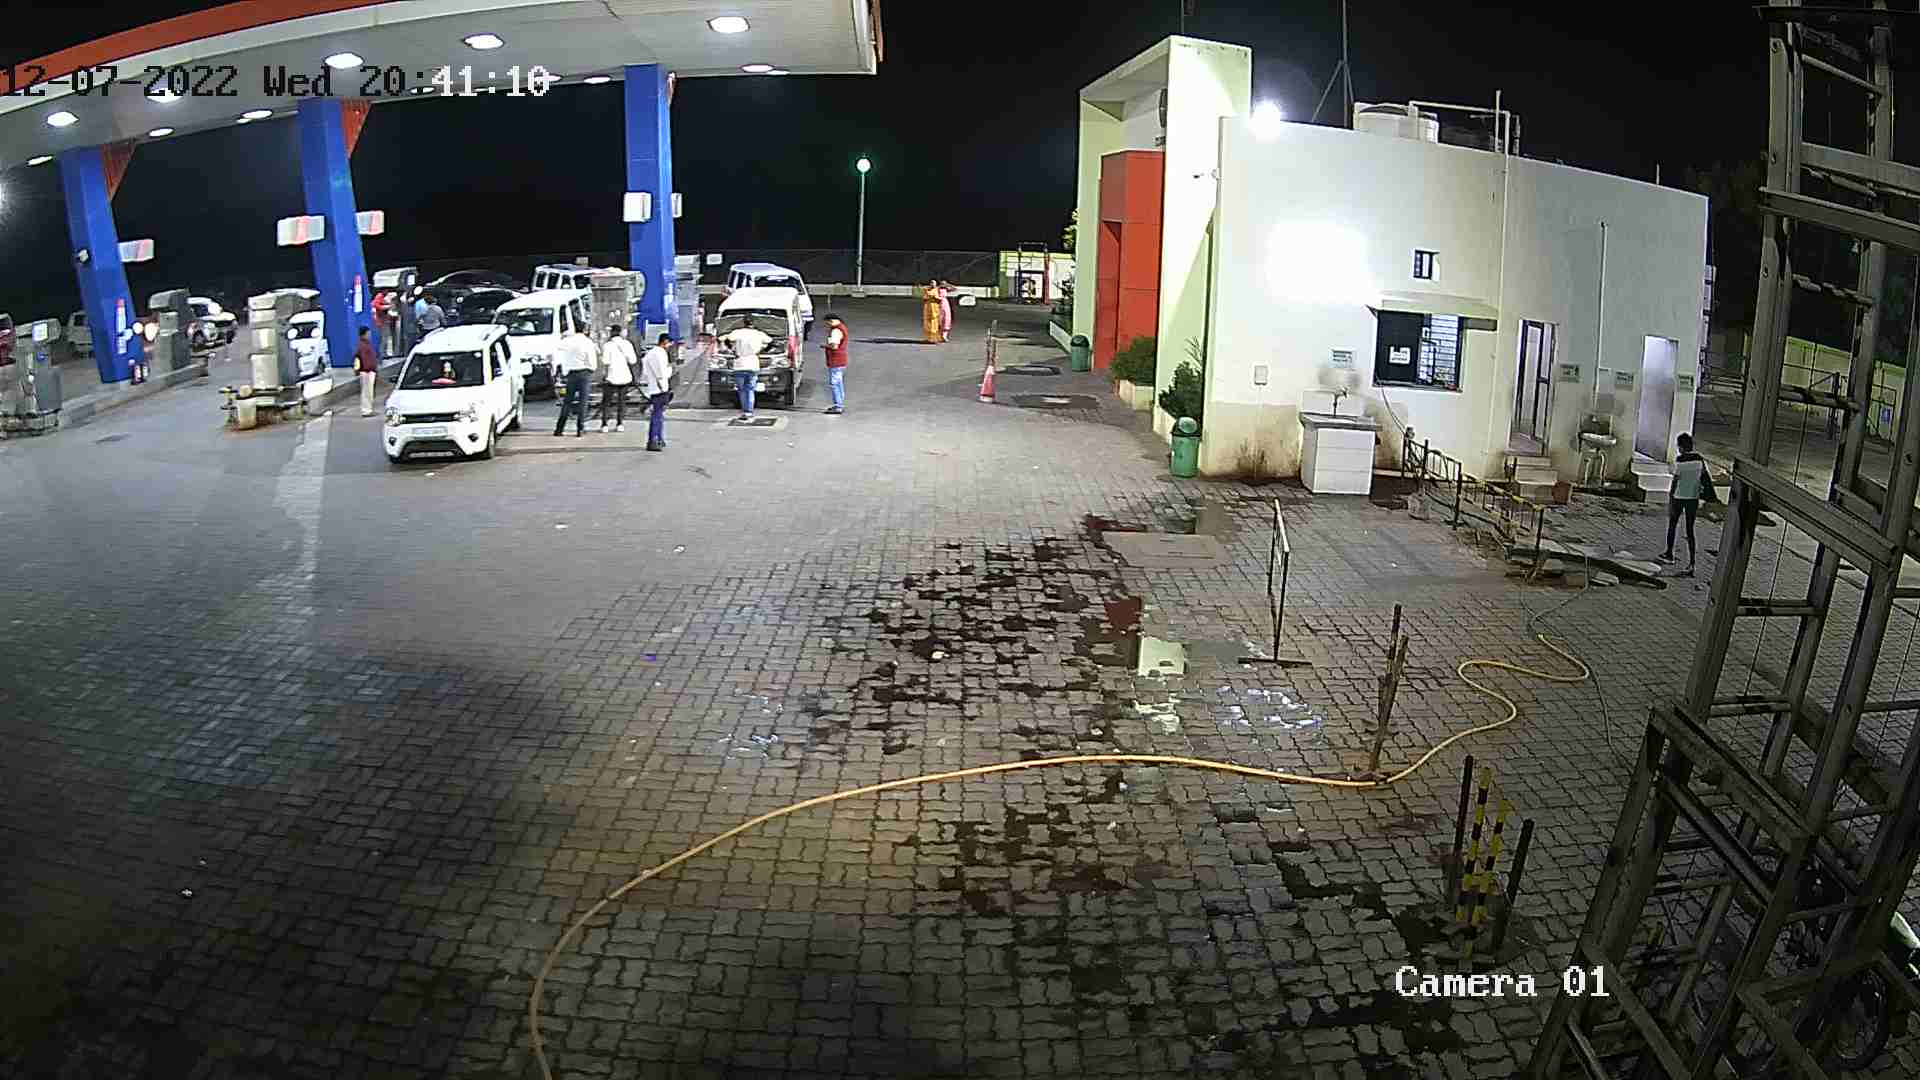Car: (356, 305, 535, 476), (692, 274, 812, 415), (475, 280, 607, 398), (709, 255, 816, 345), (425, 272, 530, 338), (411, 258, 537, 309), (518, 257, 622, 316), (274, 299, 334, 400), (160, 290, 239, 363), (49, 299, 104, 365), (244, 280, 324, 324), (0, 309, 18, 372)
